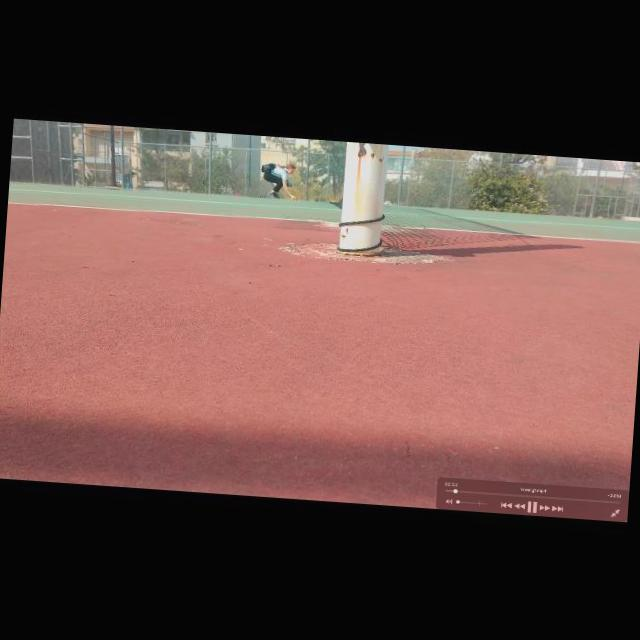Tennis Ball: (290, 196, 292, 198)
